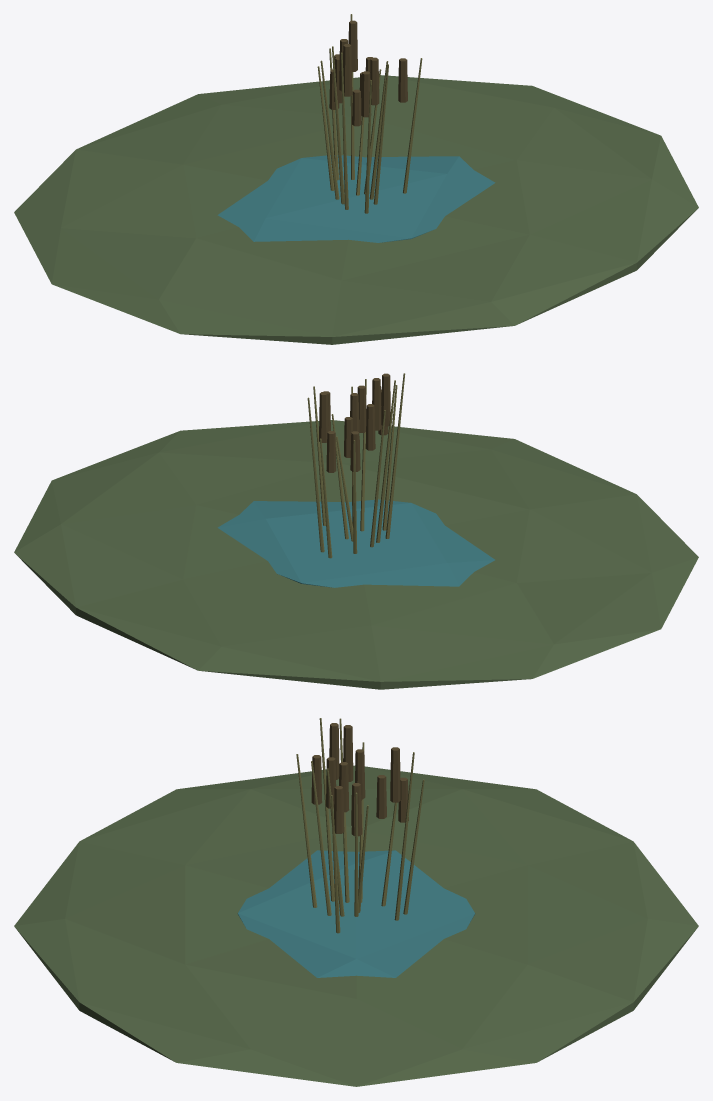
Rendered from marsh_ground.glb.
The picture shows the model from 3 angles, top to bottom: view 1: azimuth 30°, elevation 25°; view 2: azimuth 150°, elevation 25°; view 3: azimuth 270°, elevation 25°; orthographic projection. The views are drawn at different scales.
Visible parts, largest first — view 1: world-scenery/marsh_ground; view 2: world-scenery/marsh_ground; view 3: world-scenery/marsh_ground.
Part boxes in pixels (<box>): world-scenery/marsh_ground: <box>14,14,698,344</box>; world-scenery/marsh_ground: <box>14,373,698,689</box>; world-scenery/marsh_ground: <box>14,718,698,1086</box>.
Bounding box in the file's own units: 6 × 1.78 × 5.4.
